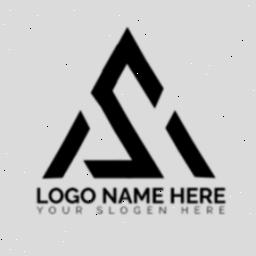l: (34, 185, 48, 207)
s: (96, 205, 104, 215)
